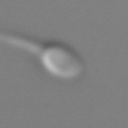normal: (1, 28, 41, 55)
